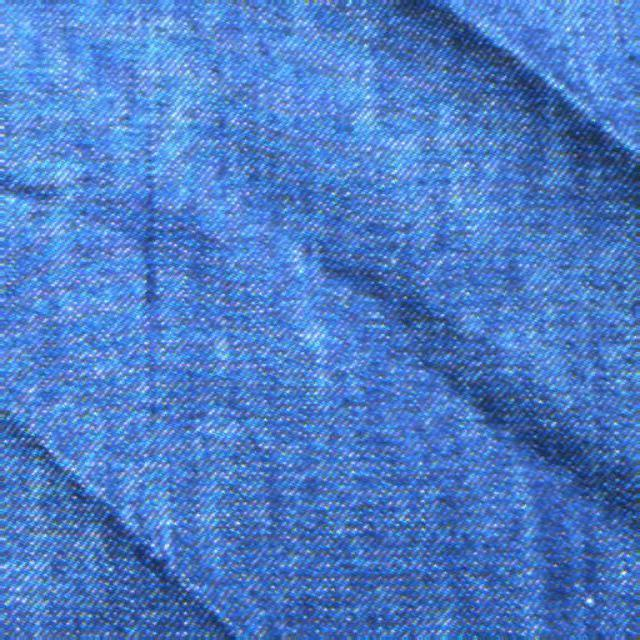pulled_or_thick_thread: (144, 147, 164, 329)
